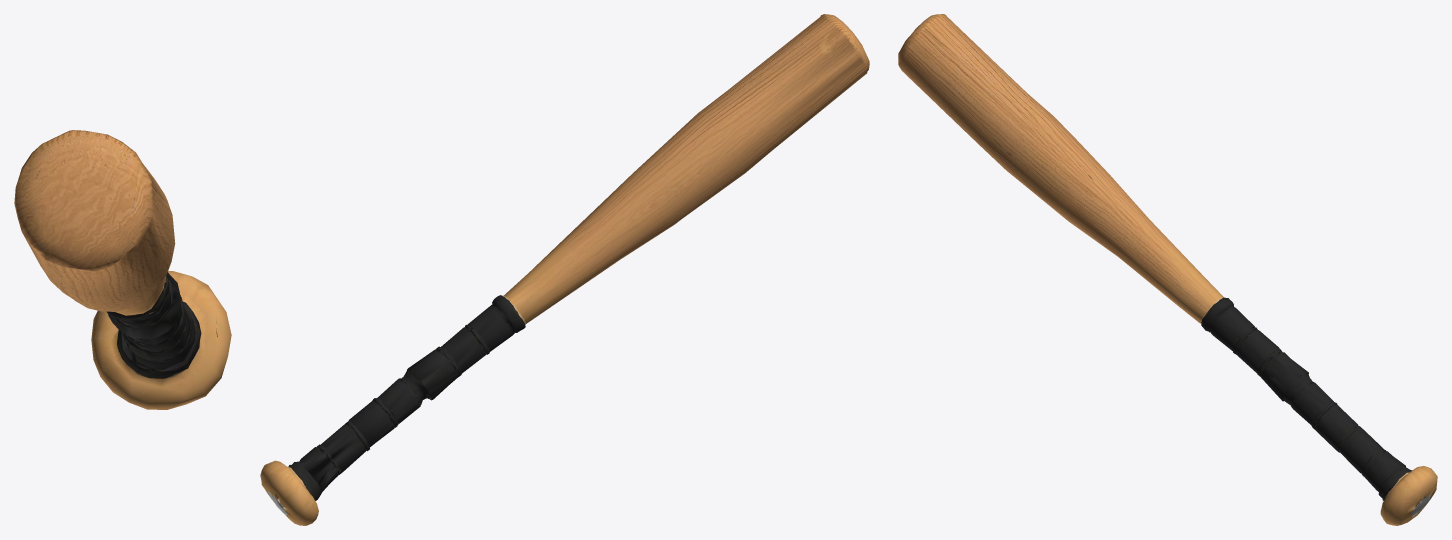
The model's file is bat.glb.
3 views of the same model, side by side, from view 1: azimuth 30°, elevation 25°; view 2: azimuth 150°, elevation 25°; view 3: azimuth 270°, elevation 25° (orthographic). The views are drawn at different scales.
Visible parts, largest first — view 1: bat; view 2: bat; view 3: bat.
Boxes of the visible parts, box(x1,y1,x2,y2) form: bat: box(14, 130, 231, 409); bat: box(260, 14, 869, 525); bat: box(898, 14, 1437, 525).
Bounding box in the file's own units: 0.8116 × 0.86 × 1.12.
Materials: 1 (1 with a texture image).
